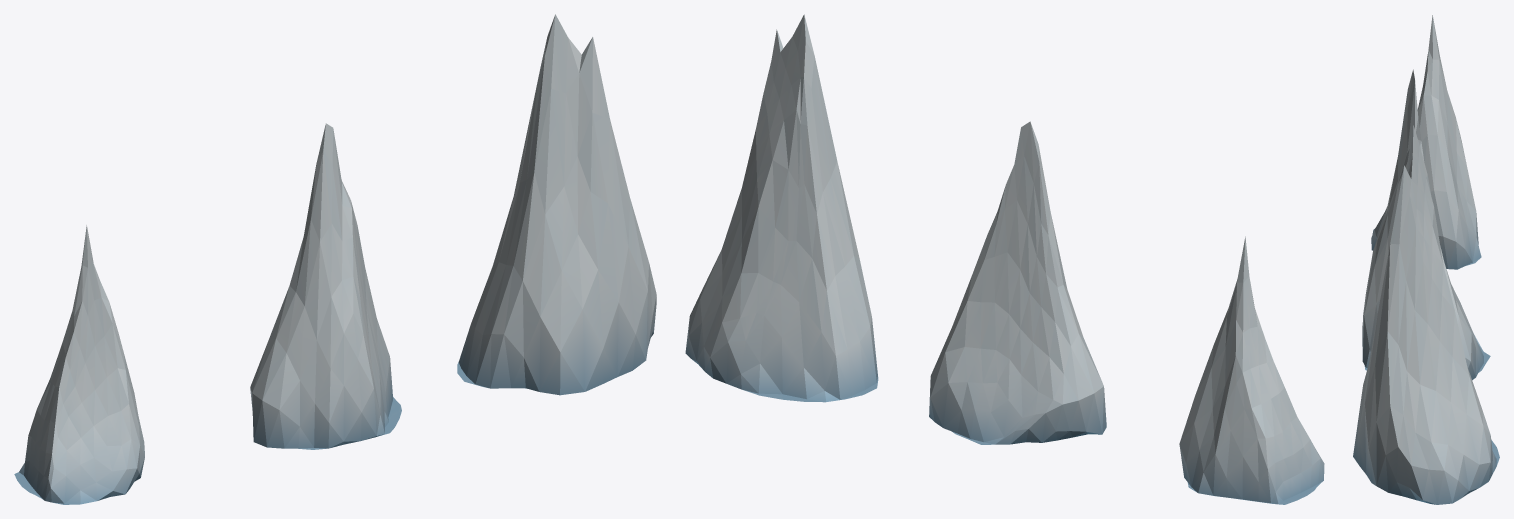
The model's file is seracs.glb.
The picture shows the model from 3 angles, left to right: view 1: azimuth 30°, elevation 25°; view 2: azimuth 150°, elevation 25°; view 3: azimuth 270°, elevation 25°; orthographic projection. The views are drawn at different scales.
Parts seen in each view (by area): view 1: serac-2, serac-1, serac-0; view 2: serac-2, serac-1, serac-0; view 3: serac-2, serac-0, serac-1.
Part boxes in pixels (box(x1,y1,x2,y2)): serac-2: box(457, 14, 656, 395); serac-1: box(250, 123, 401, 449); serac-0: box(14, 225, 144, 504); serac-2: box(685, 14, 878, 402); serac-1: box(929, 121, 1106, 444); serac-0: box(1179, 236, 1324, 504); serac-2: box(1353, 125, 1499, 504); serac-0: box(1371, 15, 1481, 269); serac-1: box(1362, 69, 1490, 380).
Bounding box in the file's own units: 37 × 20 × 8.
